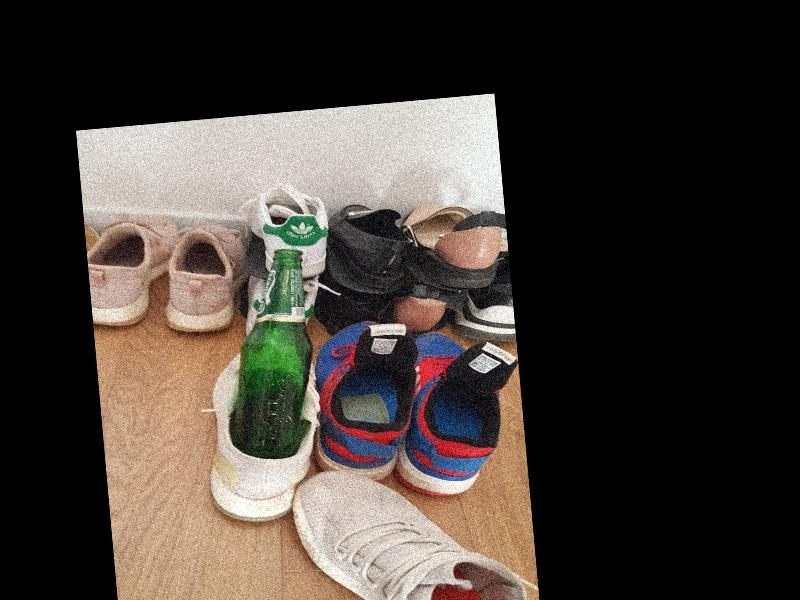Beer: (217, 249, 322, 461)
